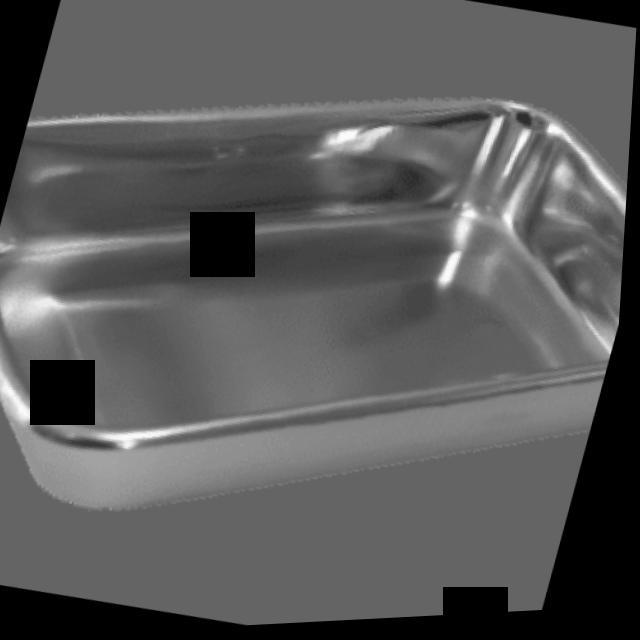Catheter Tray: (0, 2, 639, 616)
